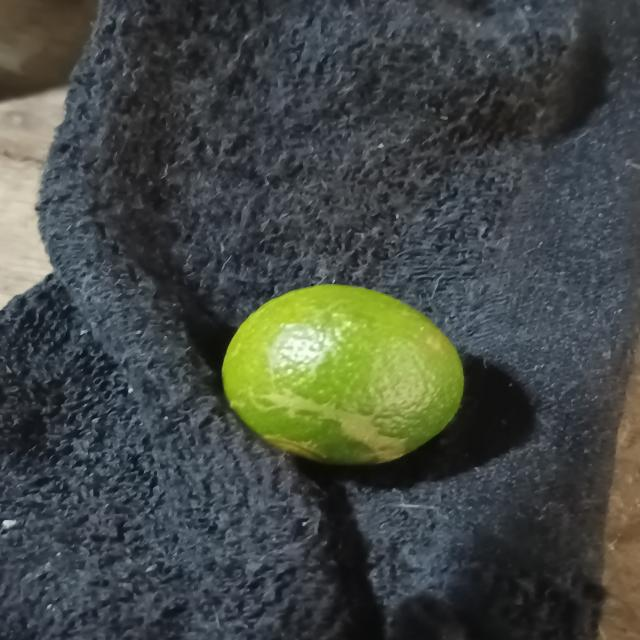thrips: (209, 286, 474, 467)
